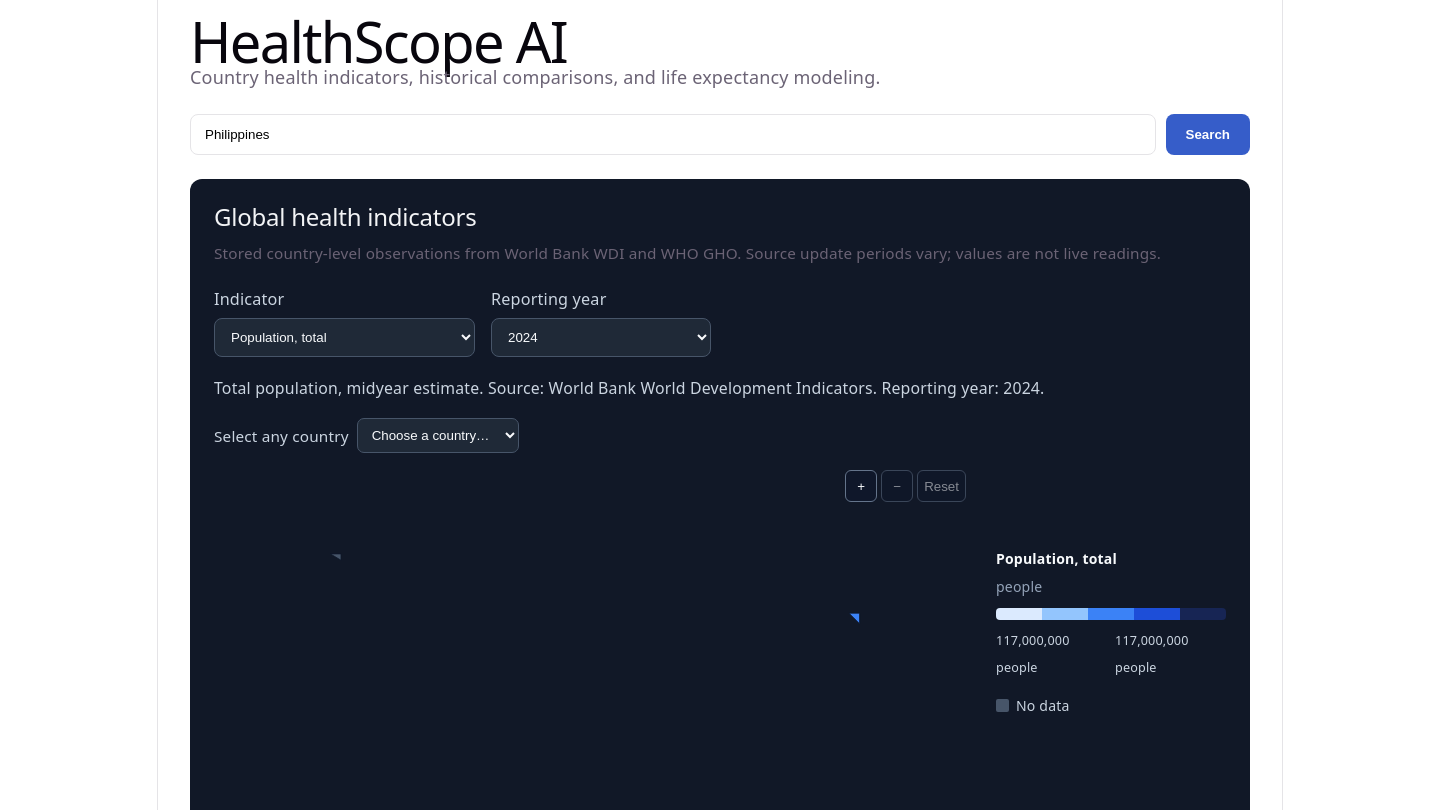
Test: global health indicator dashboard › lets a user select Singapore from the linked country selector
Select "Singapore (SGP)" in the dropdown labelled "Select any country": (438, 436) [357, 418, 519, 454]
(page scrolled)
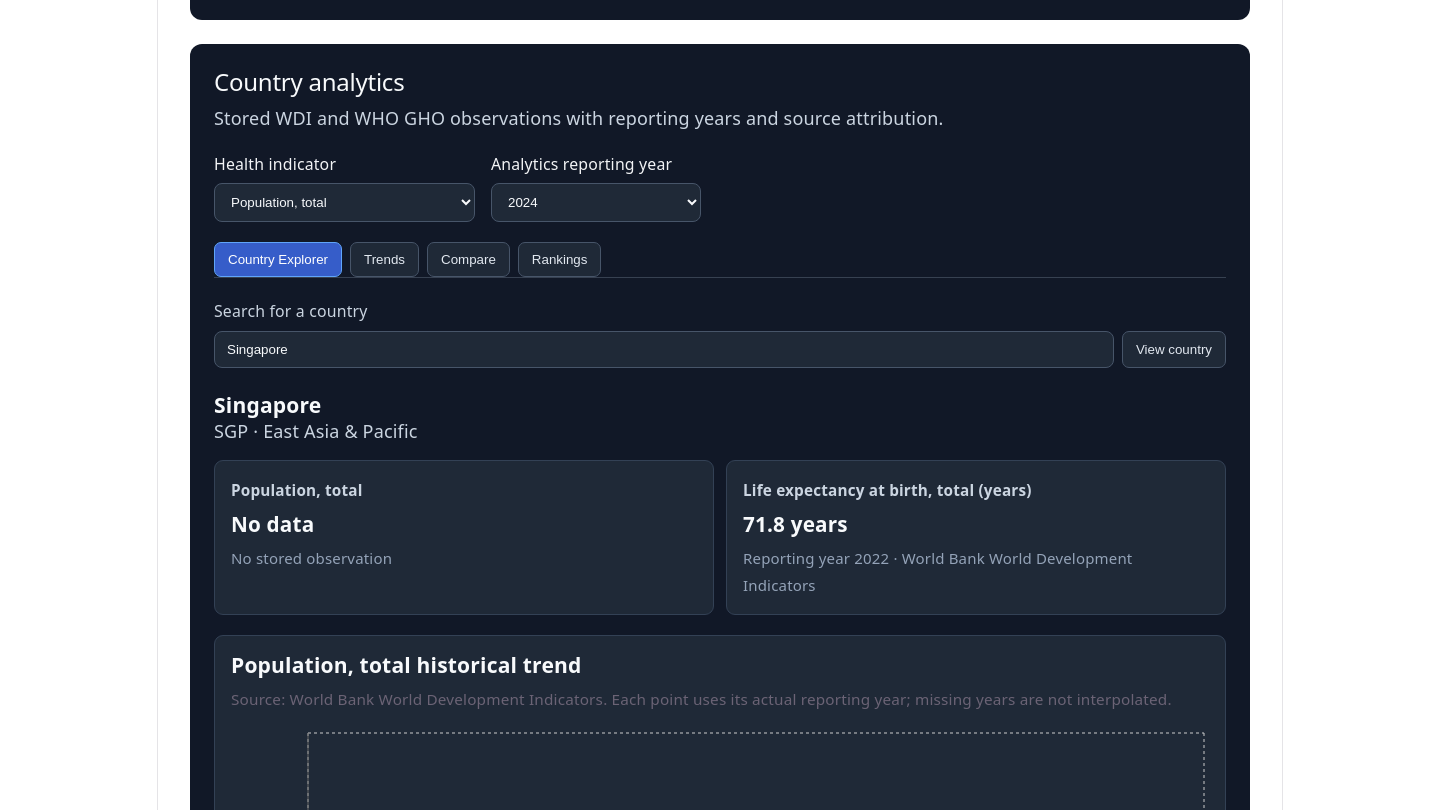
expect the heading "Singapore" is shown: met, box [214, 390, 321, 419]
